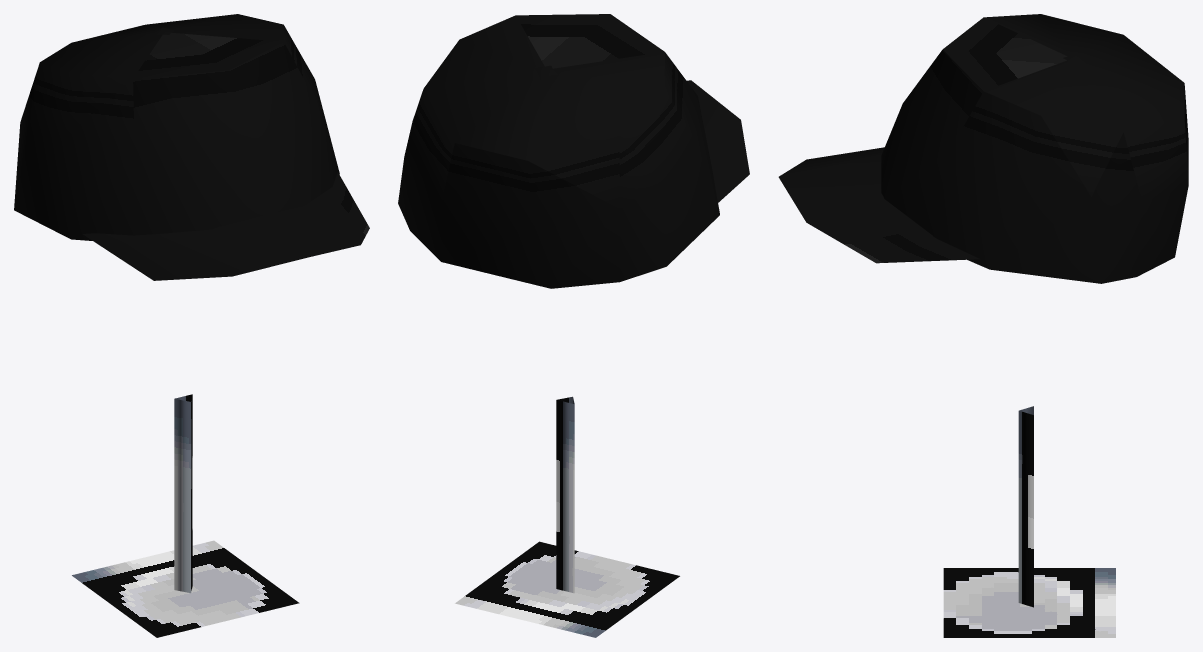
The picture shows the model from 3 angles, left to right: view 1: azimuth 30°, elevation 25°; view 2: azimuth 150°, elevation 25°; view 3: azimuth 270°, elevation 25°; orthographic projection.
Visible parts, largest first — view 1: 2952head112_c; view 2: 2952head112_c; view 3: 2952head112_c.
Part boxes in pixels (box(x1,y1,x2,y2)): 2952head112_c: box(14, 14, 369, 637); 2952head112_c: box(398, 14, 749, 637); 2952head112_c: box(778, 14, 1188, 637).
Size of the model in its own units: 0.8799 by 1.71 by 1.14.
Materials: 2 (2 with a texture image).
